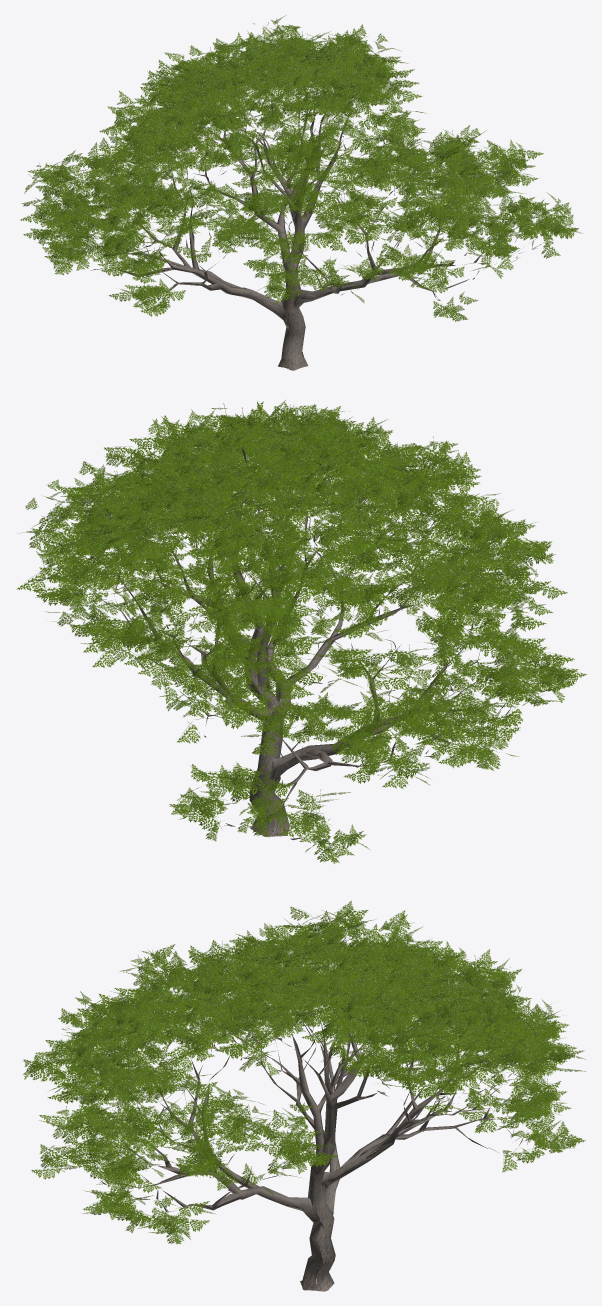
Rendered from chinaberry_a.glb.
3 renders of one model, top to bottom at view 1: azimuth 30°, elevation 25°; view 2: azimuth 150°, elevation 25°; view 3: azimuth 270°, elevation 25°, orthographic. The views are drawn at different scales.
Visible parts, largest first — view 1: Melia_azedarach_HD_Melia bark 01_0; view 2: Melia_azedarach_HD_Melia bark 01_0; view 3: Melia_azedarach_HD_Melia bark 01_0.
Boxes of the visible parts, bbox=[...] form: Melia_azedarach_HD_Melia bark 01_0: bbox=[20, 15, 582, 370]; Melia_azedarach_HD_Melia bark 01_0: bbox=[16, 400, 587, 863]; Melia_azedarach_HD_Melia bark 01_0: bbox=[23, 900, 585, 1291].
Size of the model in its own units: 10.5 by 7.21 by 10.2.
2 materials, 2 textured.
